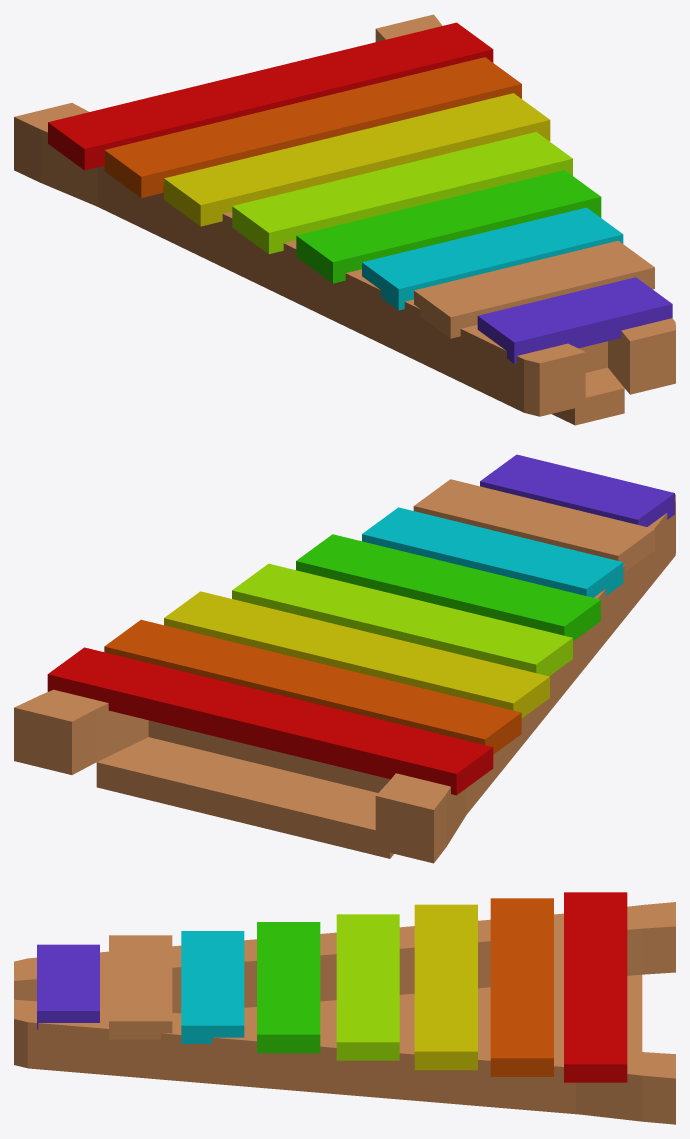
Rendered from xylophon.fbx.
3 renders of one model, top to bottom at view 1: azimuth 30°, elevation 25°; view 2: azimuth 150°, elevation 25°; view 3: azimuth 270°, elevation 25°, orthographic. The views are drawn at different scales.
Visible parts, largest first — view 1: Xylophon; view 2: Xylophon; view 3: Xylophon.
Part boxes in pixels (bbox=[...]): Xylophon: bbox=[14, 14, 675, 425]; Xylophon: bbox=[14, 454, 675, 863]; Xylophon: bbox=[14, 892, 675, 1124].
Size of the model in its own units: 7.72 by 1.63 by 12.23.
